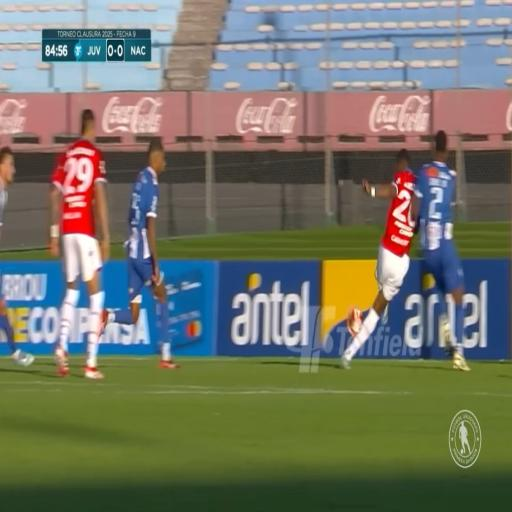Ball: (345, 304, 363, 338)
Player: (348, 141, 422, 370), (51, 109, 104, 375), (423, 110, 472, 370), (132, 132, 180, 351)
